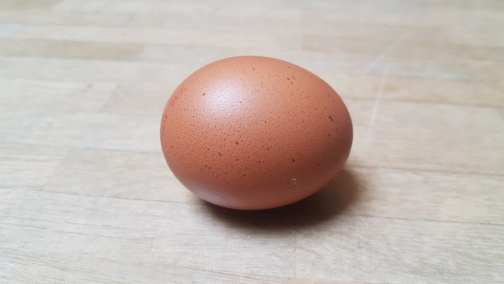egg: (158, 54, 355, 212)
